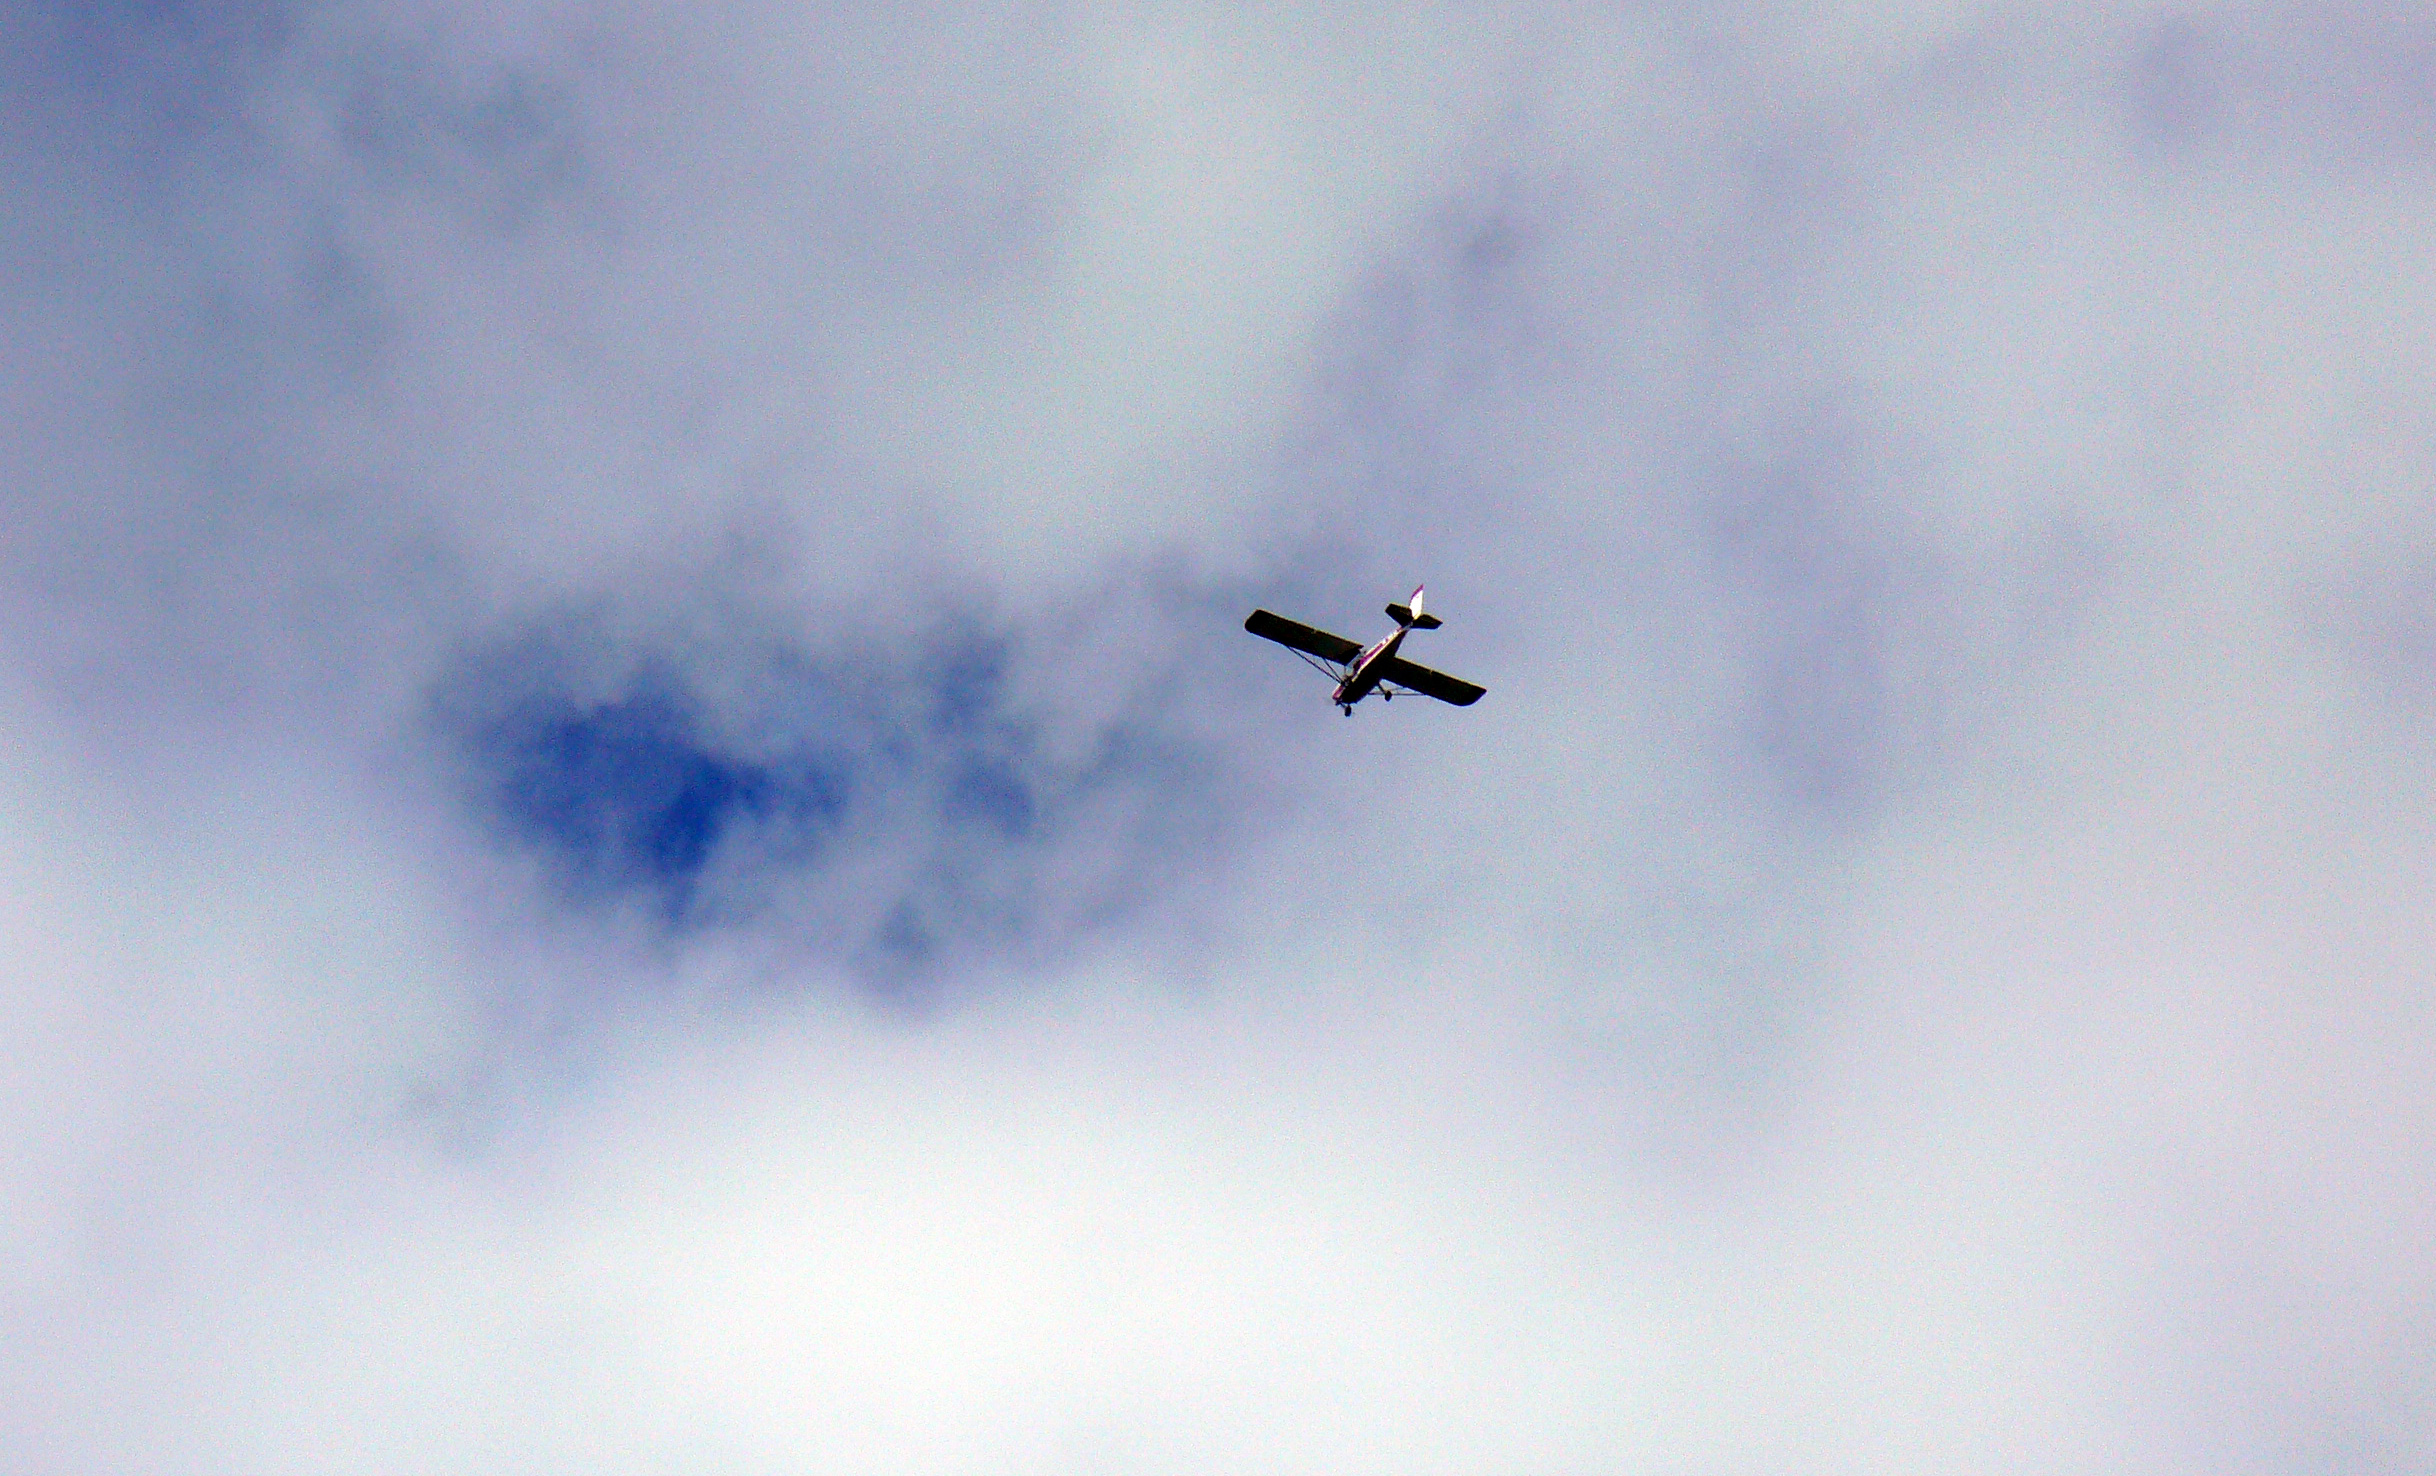plane: (1241, 574, 1495, 736)
